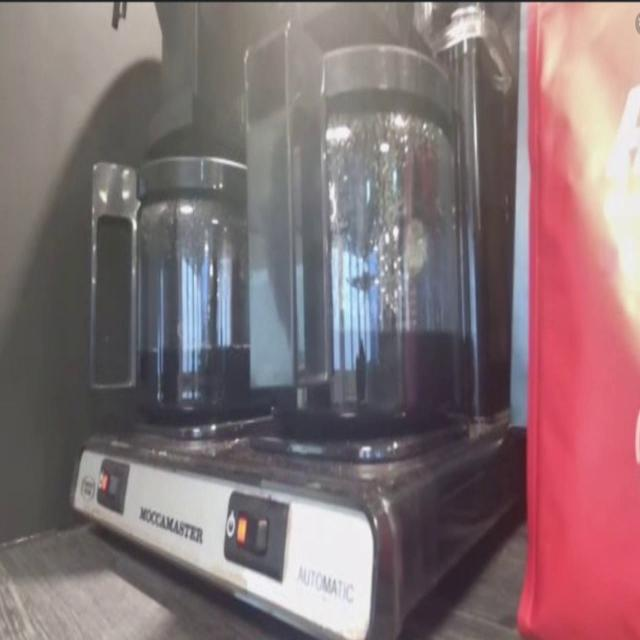coffee: (276, 134, 459, 423), (131, 208, 272, 413)
